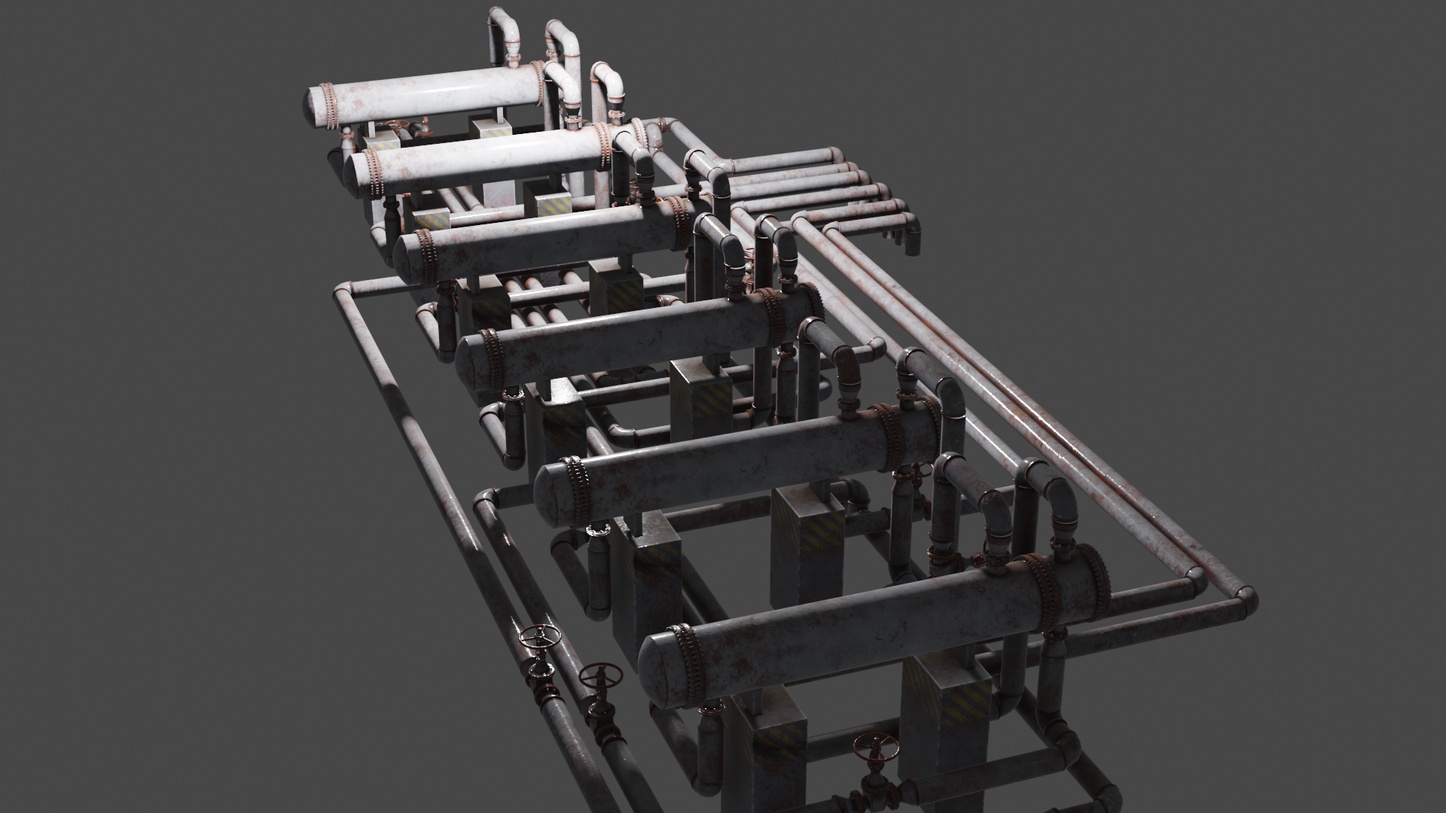HE_1: (631, 538, 1110, 718)
HE_2: (533, 394, 941, 535)
HE_3: (452, 280, 829, 397)
HE_4: (387, 194, 709, 284)
HE_5: (341, 120, 655, 199)
HE_6: (302, 54, 547, 125)
